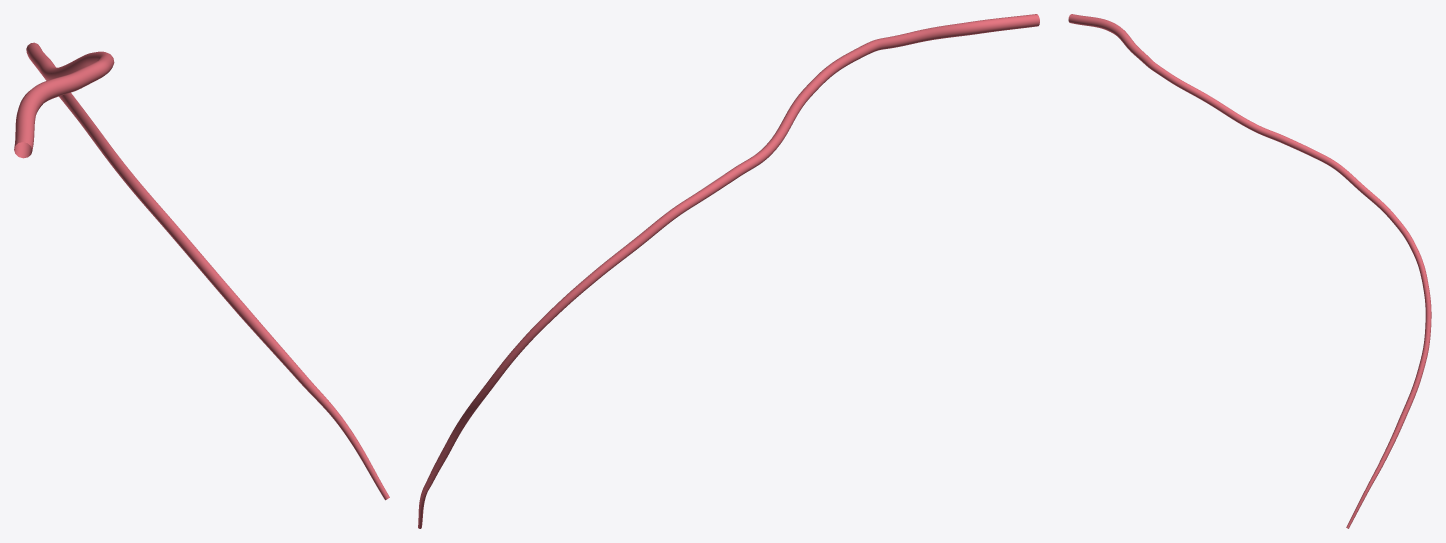
3 views of the same model, side by side, from view 1: azimuth 30°, elevation 25°; view 2: azimuth 150°, elevation 25°; view 3: azimuth 270°, elevation 25° (orthographic). The views are drawn at different scales.
Visible parts, largest first — view 1: ZA_73b892c73a69de8d; view 2: ZA_73b892c73a69de8d; view 3: ZA_73b892c73a69de8d.
Boxes of the visible parts, x1,y1,x2,y2 form: ZA_73b892c73a69de8d: (14,42,389,500); ZA_73b892c73a69de8d: (418,14,1039,528); ZA_73b892c73a69de8d: (1068,14,1431,528).
Size of the model in its own units: 0.0765 by 0.0815 by 0.0741.
